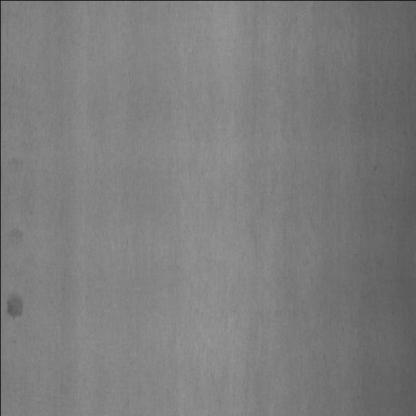oil_spot: (5, 288, 24, 328)
